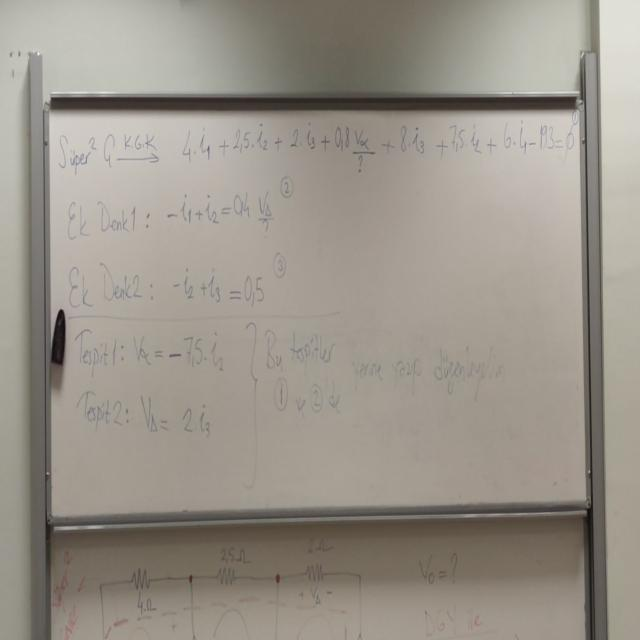math: (176, 116, 577, 163), (164, 187, 277, 231), (167, 260, 268, 308), (167, 331, 225, 371), (175, 404, 217, 440)
text: (262, 326, 507, 424), (59, 125, 157, 173), (76, 387, 157, 442), (71, 318, 150, 370), (67, 262, 145, 312), (64, 196, 138, 240)
